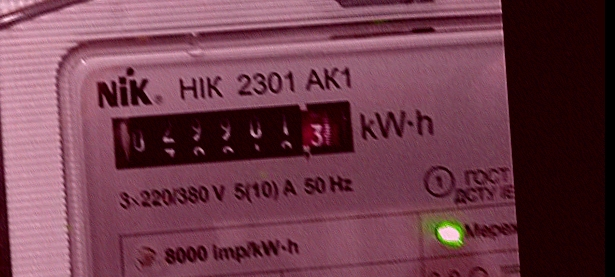0: (126, 125, 146, 153), (244, 111, 262, 141)
1: (275, 108, 290, 136)
2: (155, 117, 175, 145)
3: (305, 120, 324, 147)
9: (185, 115, 203, 143), (216, 114, 231, 142)
screen: (100, 90, 364, 180)
